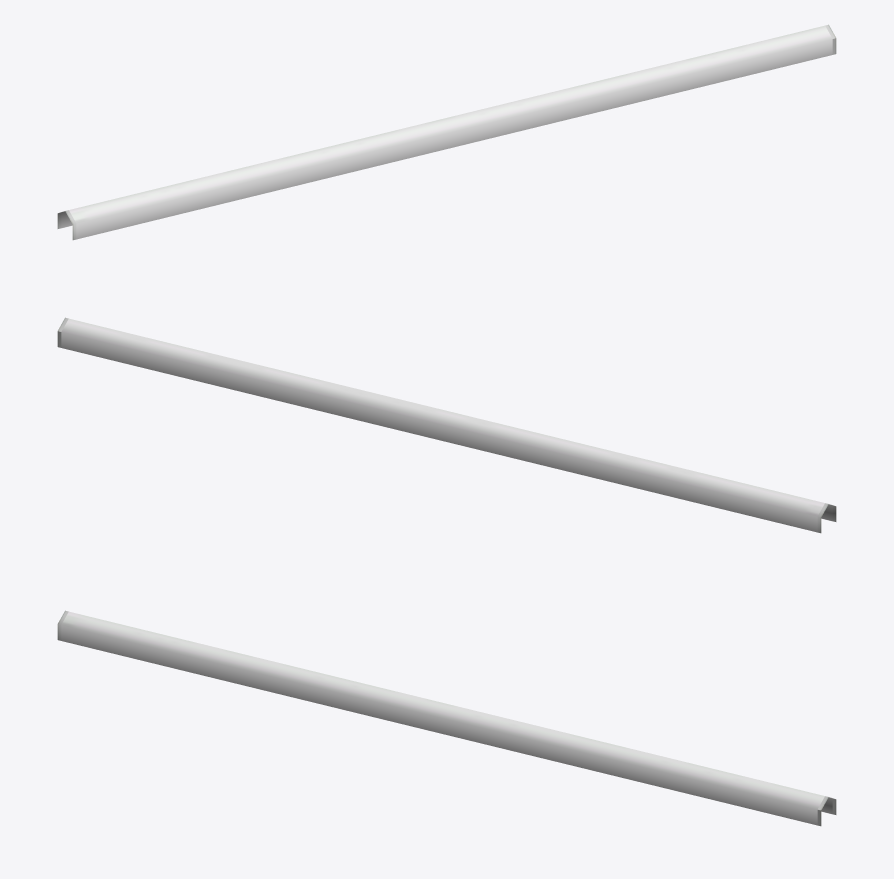
The model's file is 1bulb_fluor_colored.fbx.
3 views of the same model, one above another, from view 1: azimuth 30°, elevation 25°; view 2: azimuth 150°, elevation 25°; view 3: azimuth 330°, elevation 25° (orthographic).
Parts seen in each view (by area): view 1: mesh_0; view 2: mesh_0; view 3: mesh_0.
Boxes of the visible parts, left/top/right/bottom form: mesh_0: left=57, top=24, right=836, bottom=240; mesh_0: left=57, top=317, right=836, bottom=533; mesh_0: left=57, top=610, right=836, bottom=826.
Bounding box in the file's own units: 180 × 10.47 × 5.57.
1 material, 1 textured.
